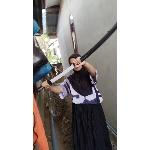Pedang: (36, 22, 118, 94)
